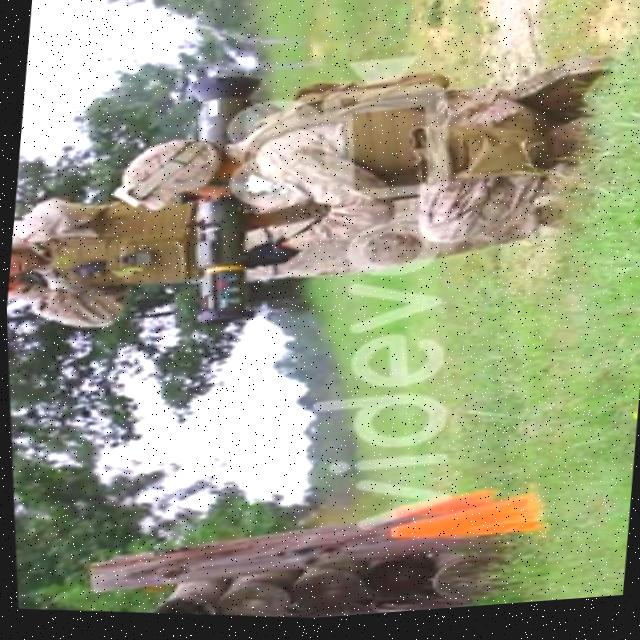rocket: (157, 68, 293, 334)
